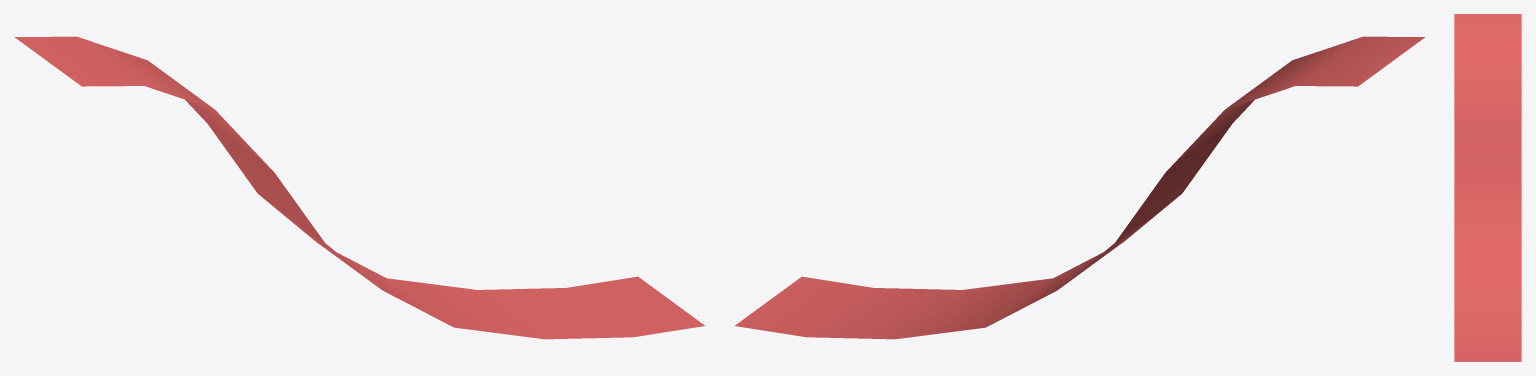
The model's file is Ramp3Color.fbx.
The picture shows the model from 3 angles, left to right: view 1: azimuth 30°, elevation 25°; view 2: azimuth 150°, elevation 25°; view 3: azimuth 270°, elevation 25°; orthographic projection. The views are drawn at different scales.
Visible parts, largest first — view 1: pCube634; view 2: pCube634; view 3: pCube634.
Part boxes in pixels (x1,y1,x2,y2): pCube634: [14, 36, 704, 339]; pCube634: [735, 36, 1425, 339]; pCube634: [1454, 14, 1521, 361].
Size of the model in its own units: 5 by 3 by 0.9367.
